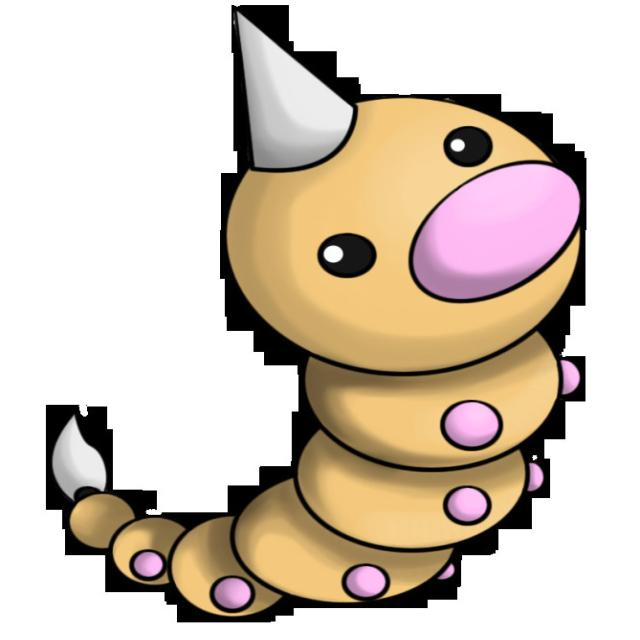Weedle: (29, 0, 605, 640)
